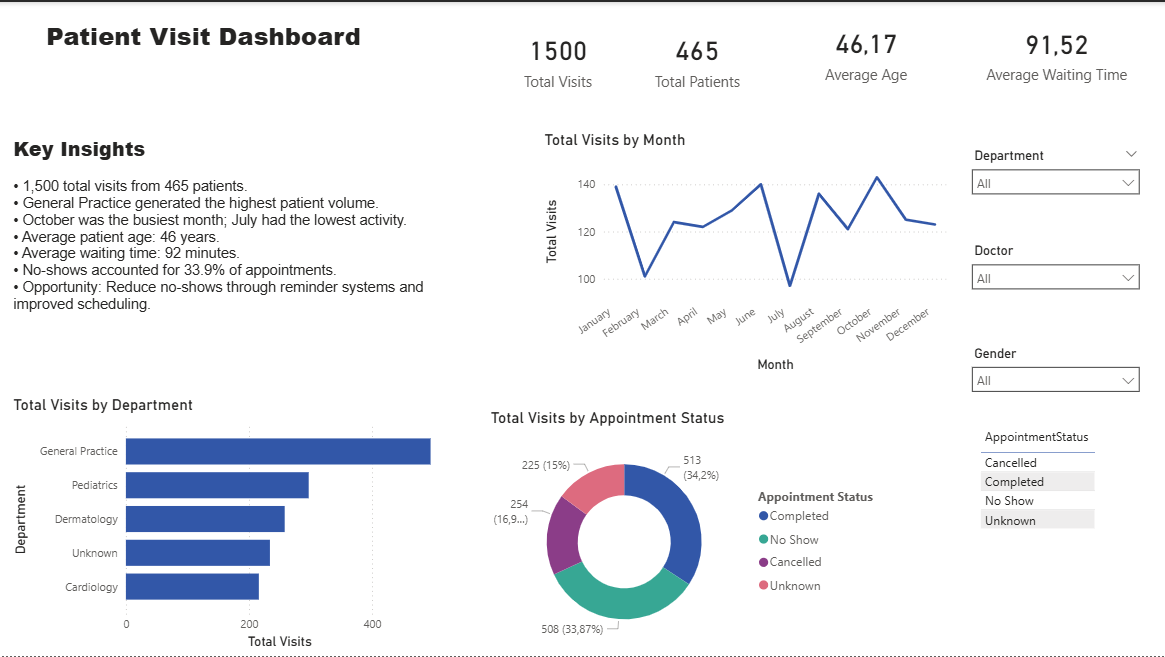

The page's visual inventory and layout, read from the dashboard file:
{"tool":"powerbi","page":{"name":"Page 1","canvas":[1280,720],"ordinal":0},"visuals":[{"type":"card","fields":{"Values":["CountNonNull(Sheet1.VisitID)"]},"box":[522.8,12.3,179.8,100.2],"z":0},{"type":"card","fields":{"Values":["Count(Sheet1.PatientID)"]},"box":[686.1,12.3,159.2,100.2],"z":1},{"type":"card","fields":{"Values":["Avg(Sheet1.Age)"]},"box":[845.3,12.3,211.3,85.1],"z":2},{"type":"card","fields":{"Values":["Avg(Sheet1.WaitTime_Minutes)"]},"box":[1048.4,15.1,223.7,81],"z":3},{"type":"lineChart","fields":{"Category":["Sheet1.Month"],"Y":["CountNonNull(Sheet1.VisitID)"]},"box":[592.8,141.3,451.5,270.3],"z":4},{"type":"clusteredBarChart","fields":{"Category":["Sheet1.Department"],"Y":["CountNonNull(Sheet1.VisitID)"]},"box":[9.6,432.2,481.6,282.7],"z":5},{"type":"donutChart","fields":{"Category":["Sheet1.AppointmentStatus"],"Y":["CountNonNull(Sheet1.VisitID)"]},"box":[533.8,446,443.2,274.4],"z":6},{"type":"slicer","fields":{"Values":["Sheet1.Doctor"]},"box":[1056.6,259.3,204.5,100.2],"z":7},{"type":"slicer","fields":{"Values":["Sheet1.Department"]},"box":[1056.6,155.1,204.5,87.8],"z":8},{"type":"slicer","fields":{"Values":["Sheet1.Gender"]},"box":[1056.6,371.9,204.5,79.6],"z":9},{"type":"tableEx","fields":{"Values":["Sheet1.AppointmentStatus"]},"box":[1070.3,461.1,178.4,149.6],"z":11},{"type":"textbox","box":[9.6,141.3,513.2,230.5],"z":12},{"type":"textbox","box":[19.2,12.3,456.9,83.7],"z":13}]}

Visuals, with their boxes in screenshot pixels (x1, y1, x2, y2), scaled from the page's 1280x720 canvas onto the 1165x657 screenshot:
card - CountNonNull(Sheet1.VisitID): left=476, top=11, right=639, bottom=103
card - Count(Sheet1.PatientID): left=624, top=11, right=769, bottom=103
card - Avg(Sheet1.Age): left=769, top=11, right=962, bottom=89
card - Avg(Sheet1.WaitTime_Minutes): left=954, top=14, right=1158, bottom=88
lineChart - Sheet1.Month x CountNonNull(Sheet1.VisitID): left=540, top=129, right=950, bottom=376
clusteredBarChart - Sheet1.Department x CountNonNull(Sheet1.VisitID): left=9, top=394, right=447, bottom=652
donutChart - Sheet1.AppointmentStatus x CountNonNull(Sheet1.VisitID): left=486, top=407, right=889, bottom=656
slicer - Sheet1.Doctor: left=962, top=237, right=1148, bottom=328
slicer - Sheet1.Department: left=962, top=142, right=1148, bottom=222
slicer - Sheet1.Gender: left=962, top=339, right=1148, bottom=412
tableEx - Sheet1.AppointmentStatus: left=974, top=421, right=1137, bottom=557
textbox: left=9, top=129, right=476, bottom=339
textbox: left=17, top=11, right=433, bottom=88
